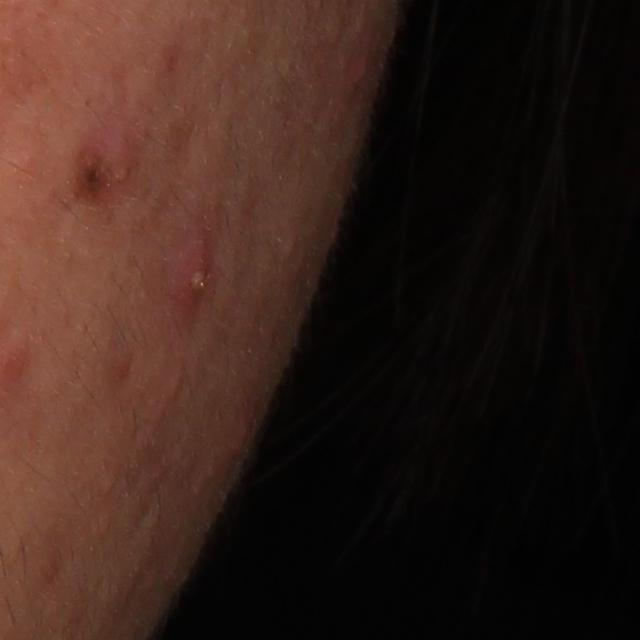papule: (345, 38, 379, 100), (232, 408, 256, 461)
